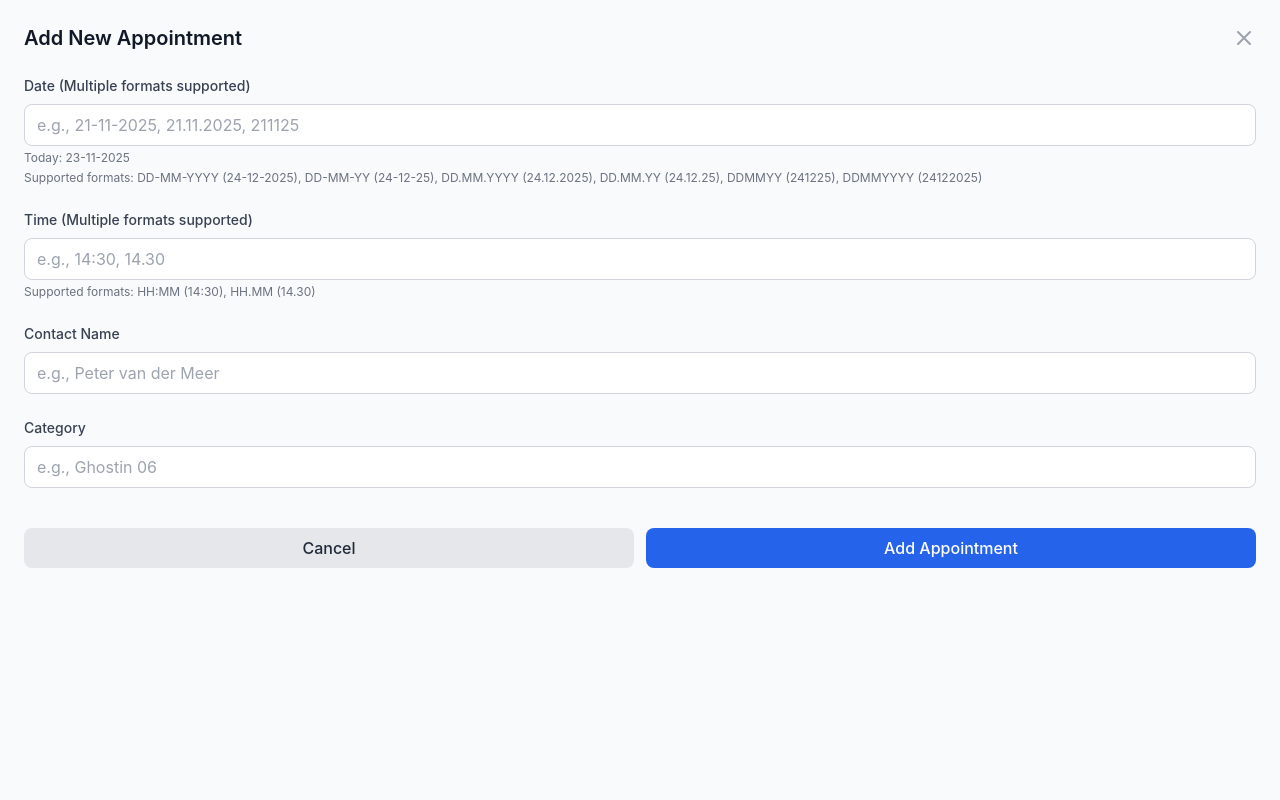
Test: AddAppointmentForm Component › validates time format
In the field labelled "Time (Multiple formats supported)": (640, 259) [24,238,1256,280], type "invalid-time"
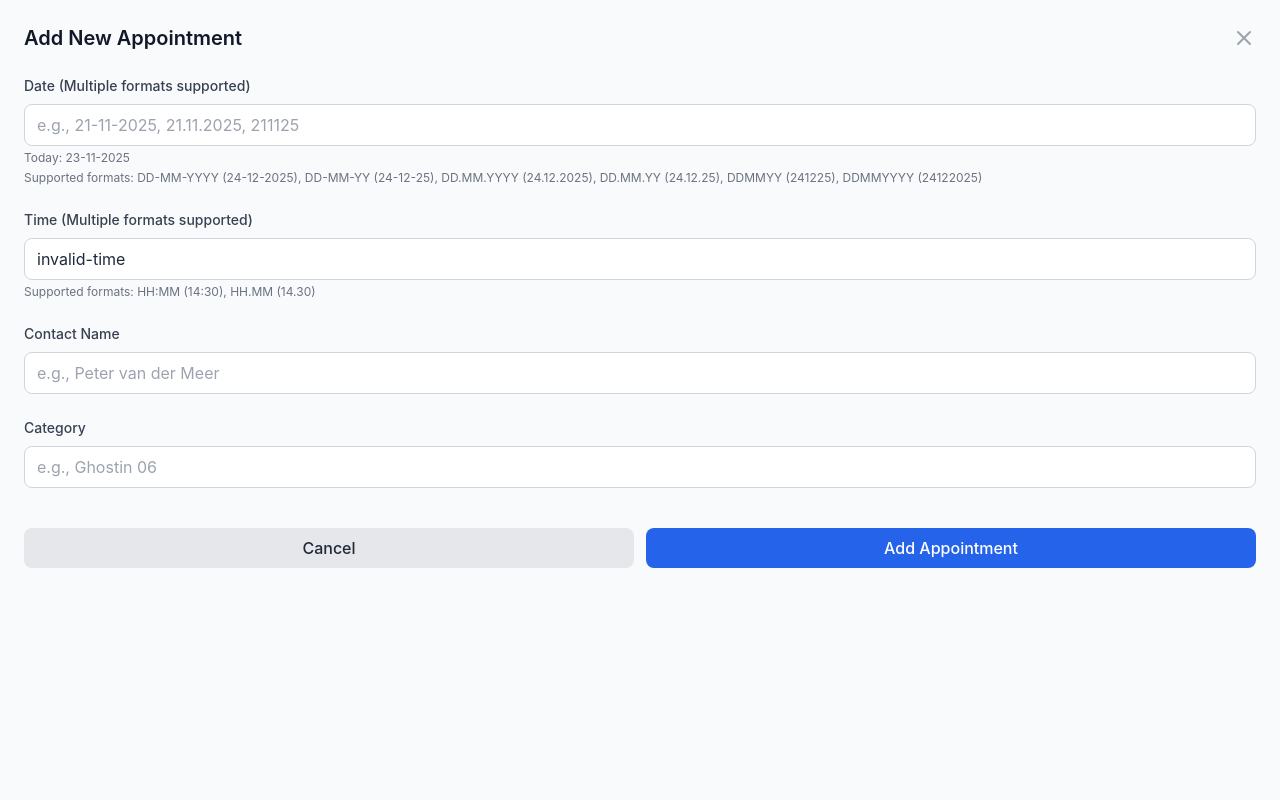
Click the button "Add Appointment": (951, 548) [646,528,1256,568]
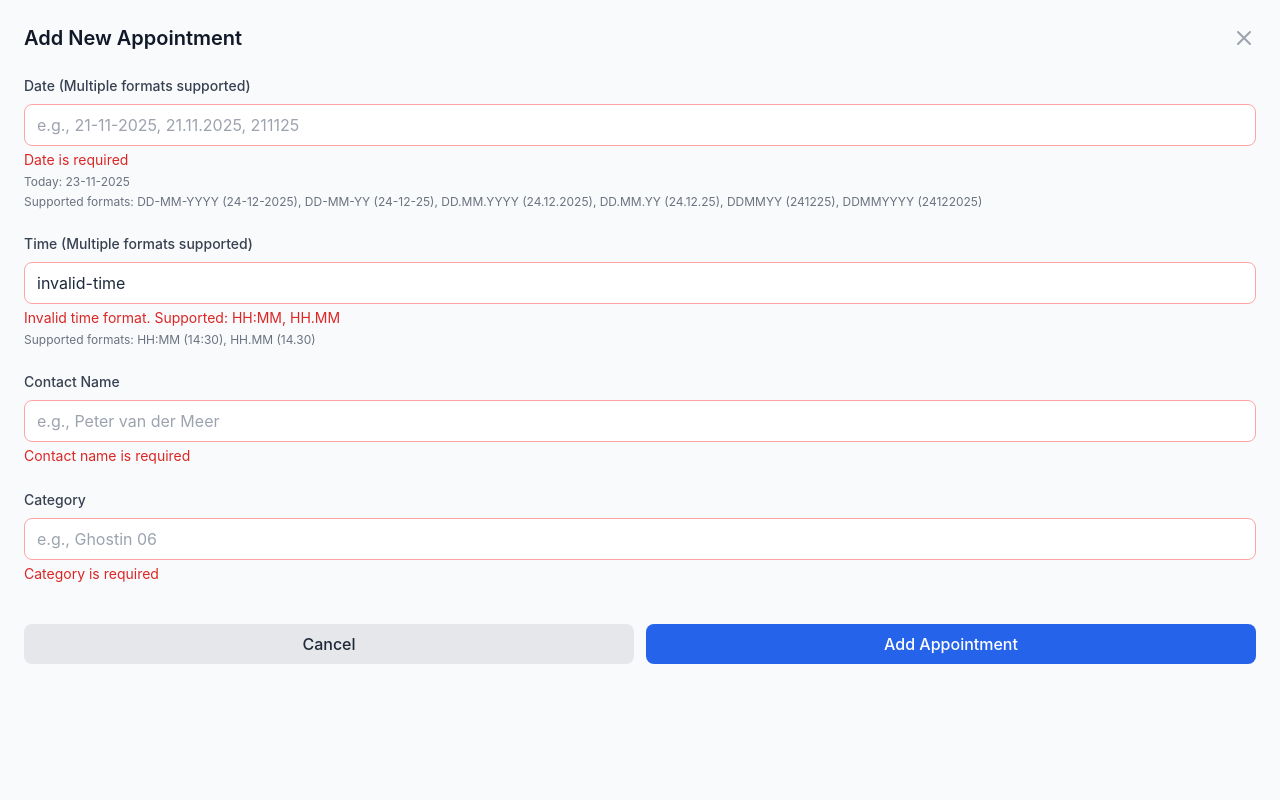
Expected: the text "Invalid time format. Supported: HH:MM, HH.MM" is shown, [24,309,340,326]
